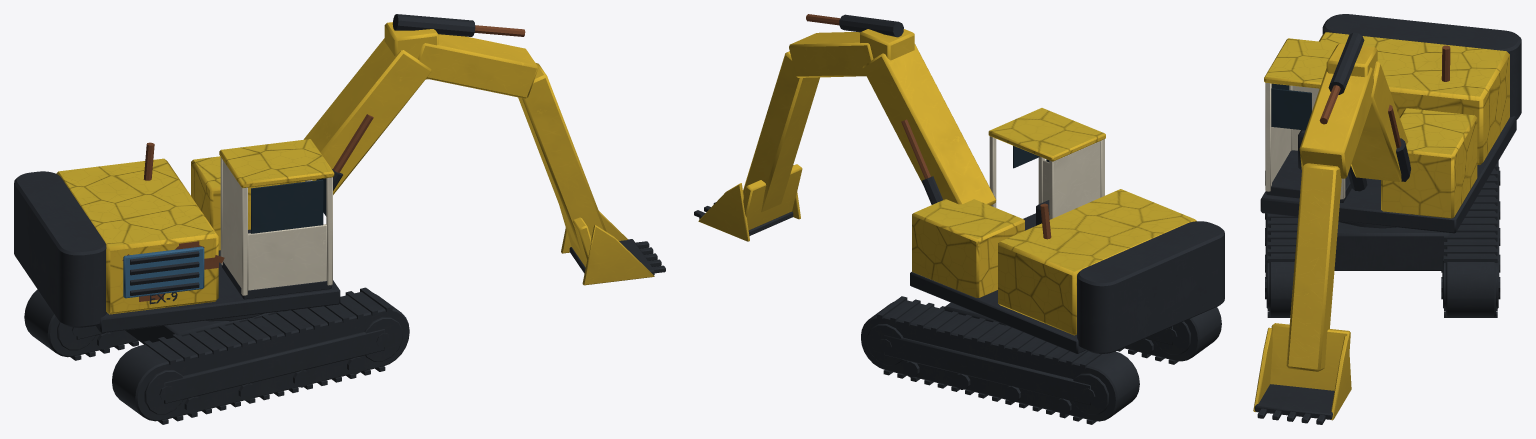
The model's file is excavator_wreck.glb.
3 renders of one model, left to right at view 1: azimuth 30°, elevation 25°; view 2: azimuth 150°, elevation 25°; view 3: azimuth 270°, elevation 25°, orthographic. The views are drawn at different scales.
Visible parts, largest first — view 1: excavator_wreck; view 2: excavator_wreck; view 3: excavator_wreck.
Boxes of the visible parts, x1,y1,x2,y2 form: excavator_wreck: [14, 14, 665, 424]; excavator_wreck: [694, 14, 1224, 424]; excavator_wreck: [1253, 14, 1521, 424].
Bounding box in the file's own units: 7.97 × 4.1 × 3.19.
Materials: 11 (11 with a texture image).
